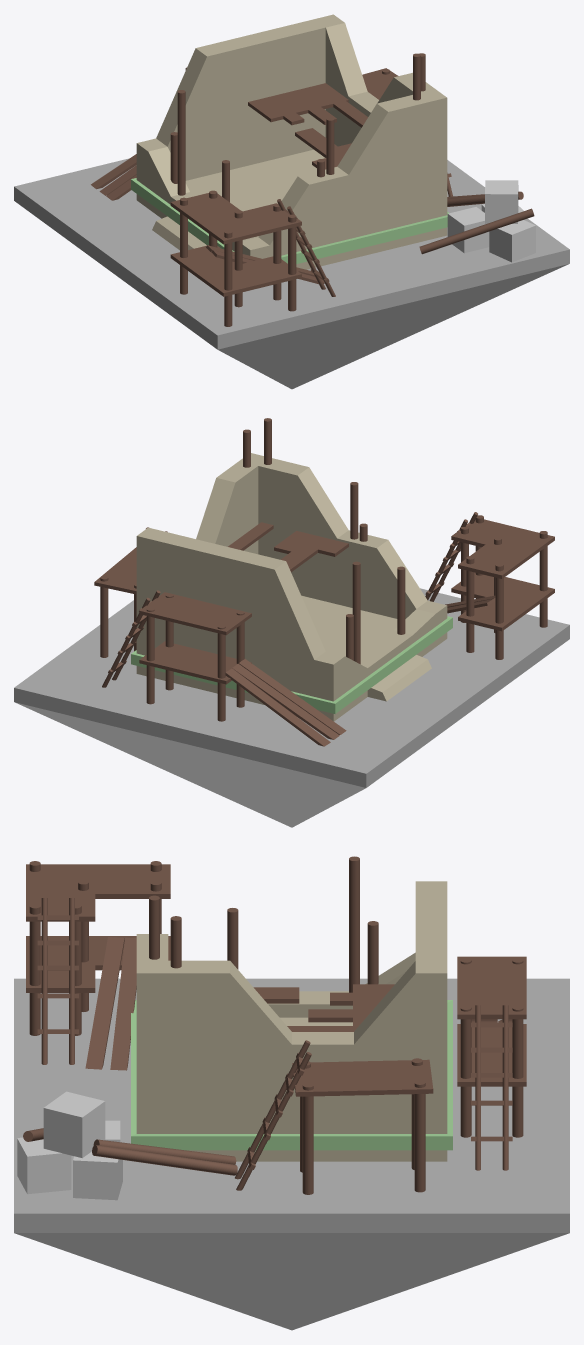
File: PrototypeScaffold.fbx
The picture shows the model from 3 angles, top to bottom: view 1: azimuth 30°, elevation 25°; view 2: azimuth 150°, elevation 25°; view 3: azimuth 270°, elevation 25°; orthographic projection. The views are drawn at different scales.
Parts seen in each view (by area): view 1: Prototype Scaffold; view 2: Prototype Scaffold; view 3: Prototype Scaffold.
Boxes of the visible parts, x1,y1,x2,y2 form: Prototype Scaffold: [14, 14, 569, 389]; Prototype Scaffold: [14, 418, 569, 827]; Prototype Scaffold: [14, 856, 569, 1330].
Size of the model in its own units: 1599 by 1530 by 1599.
